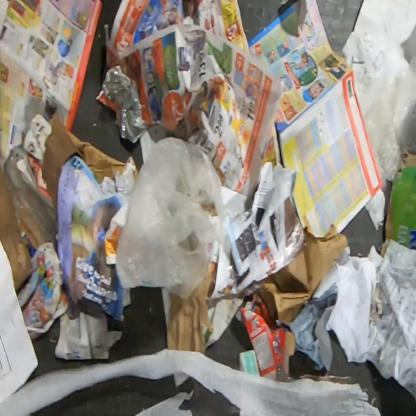cardboard: (258, 223, 350, 324), (42, 110, 126, 214), (235, 291, 297, 382), (0, 165, 34, 293), (379, 145, 415, 259)
metal: (102, 64, 148, 145)
soft_plastic: (114, 136, 232, 302), (358, 53, 415, 191), (133, 388, 195, 415)
